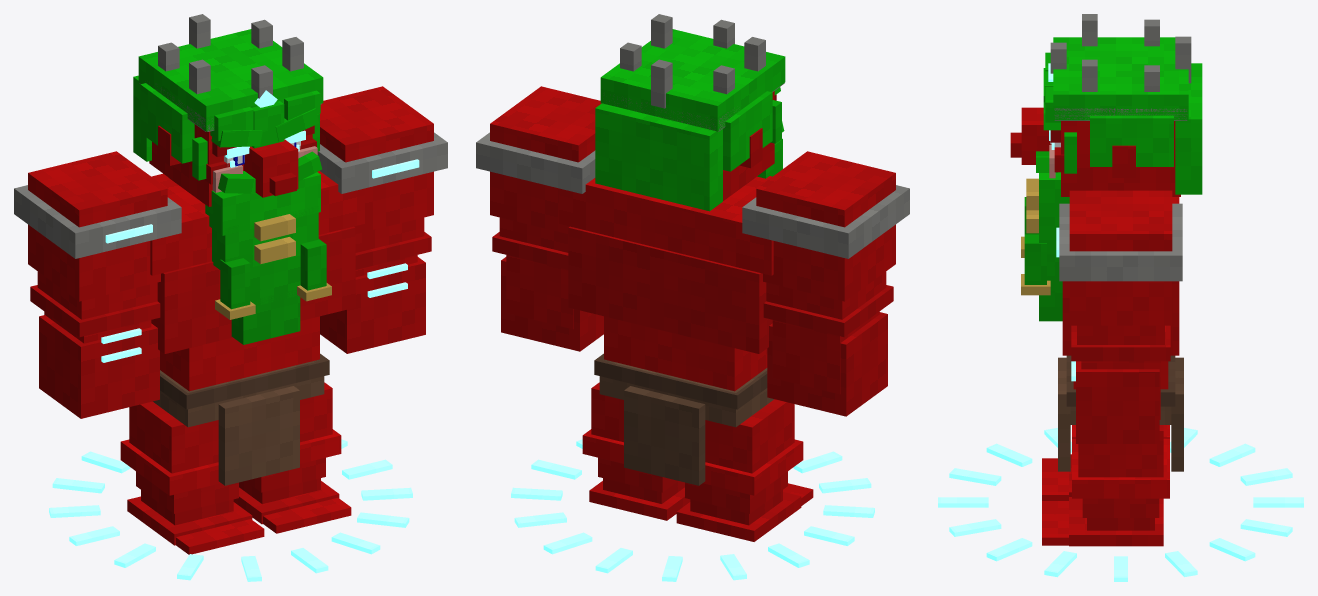
The model's file is dwarf_s0_evo3.glb.
3 views of the same model, side by side, from view 1: azimuth 30°, elevation 25°; view 2: azimuth 150°, elevation 25°; view 3: azimuth 270°, elevation 25° (orthographic).
Visible parts, largest first — view 1: Head, ArmR, Torso, ArmL, LegR, LegL, Root; view 2: Torso, ArmR, Head, ArmL, LegR, Root, LegL; view 3: Head, ArmL, LegL, Root, Torso, LegR.
Part boxes in pixels (bbox=[...]): Head: bbox=[133, 14, 331, 344]; ArmR: bbox=[14, 151, 181, 418]; Torso: bbox=[150, 171, 364, 485]; ArmL: bbox=[317, 86, 447, 353]; LegR: bbox=[120, 401, 264, 554]; LegL: bbox=[233, 382, 351, 533]; Root: bbox=[49, 439, 412, 581]; Torso: bbox=[559, 176, 773, 485]; ArmR: bbox=[742, 151, 909, 416]; Head: bbox=[595, 14, 785, 211]; ArmL: bbox=[476, 86, 603, 351]; LegR: bbox=[676, 399, 813, 541]; Root: bbox=[511, 439, 874, 581]; LegL: bbox=[582, 382, 690, 520]; Head: bbox=[1010, 14, 1202, 321]; ArmL: bbox=[1056, 190, 1182, 443]; LegL: bbox=[1042, 425, 1169, 546]; Root: bbox=[938, 428, 1303, 581]; Torso: bbox=[1058, 197, 1183, 471]; LegR: bbox=[1042, 425, 1169, 500].
Bounding box in the file's own units: 1.37 × 1.63 × 1.16.
26 materials, 26 textured.
